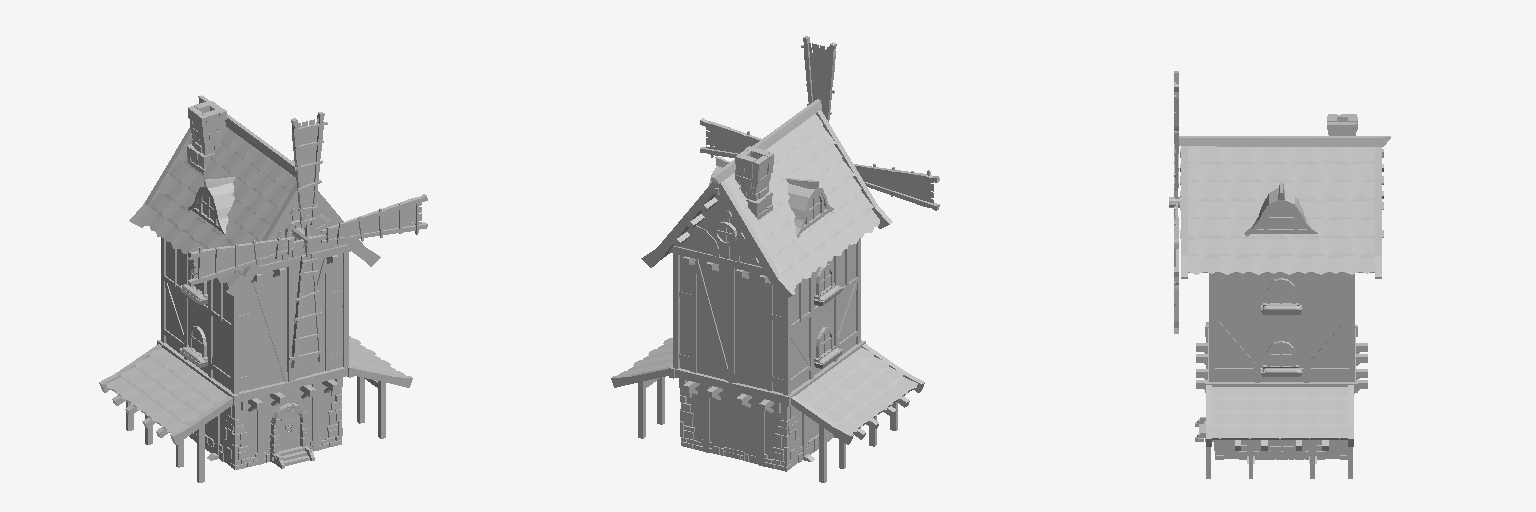
Rendered from mill.obj.
3 views of the same model, side by side, from view 1: azimuth 30°, elevation 25°; view 2: azimuth 150°, elevation 25°; view 3: azimuth 270°, elevation 25° (orthographic).
Parts seen in each view (by area): view 1: Mill_Cube.128, Mill_Blades_Cube.007; view 2: Mill_Cube.128, Mill_Blades_Cube.007; view 3: Mill_Cube.128, Mill_Blades_Cube.007.
Part boxes in pixels (bbox=[...]): Mill_Cube.128: bbox=[99, 95, 412, 482]; Mill_Blades_Cube.007: bbox=[188, 112, 427, 368]; Mill_Cube.128: bbox=[611, 99, 924, 482]; Mill_Blades_Cube.007: bbox=[700, 36, 939, 210]; Mill_Cube.128: bbox=[1179, 114, 1390, 478]; Mill_Blades_Cube.007: bbox=[1169, 71, 1180, 333].
Bounding box in the file's own units: 10.19 × 14.41 × 8.19.